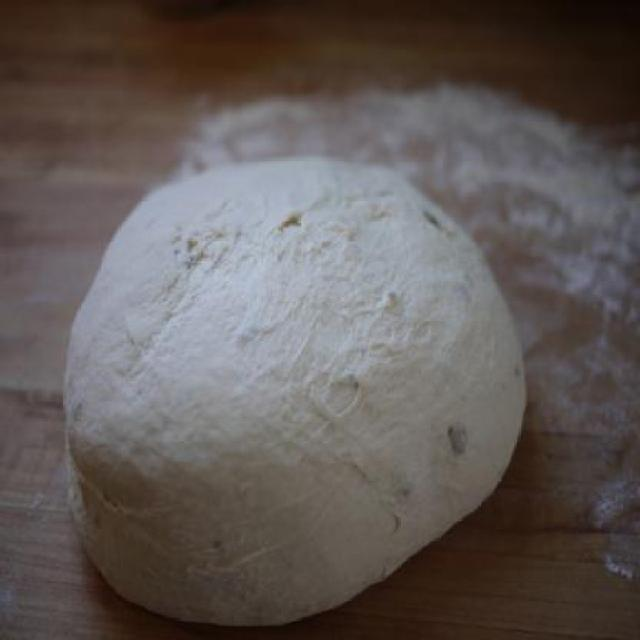Bread: (81, 146, 530, 639)
